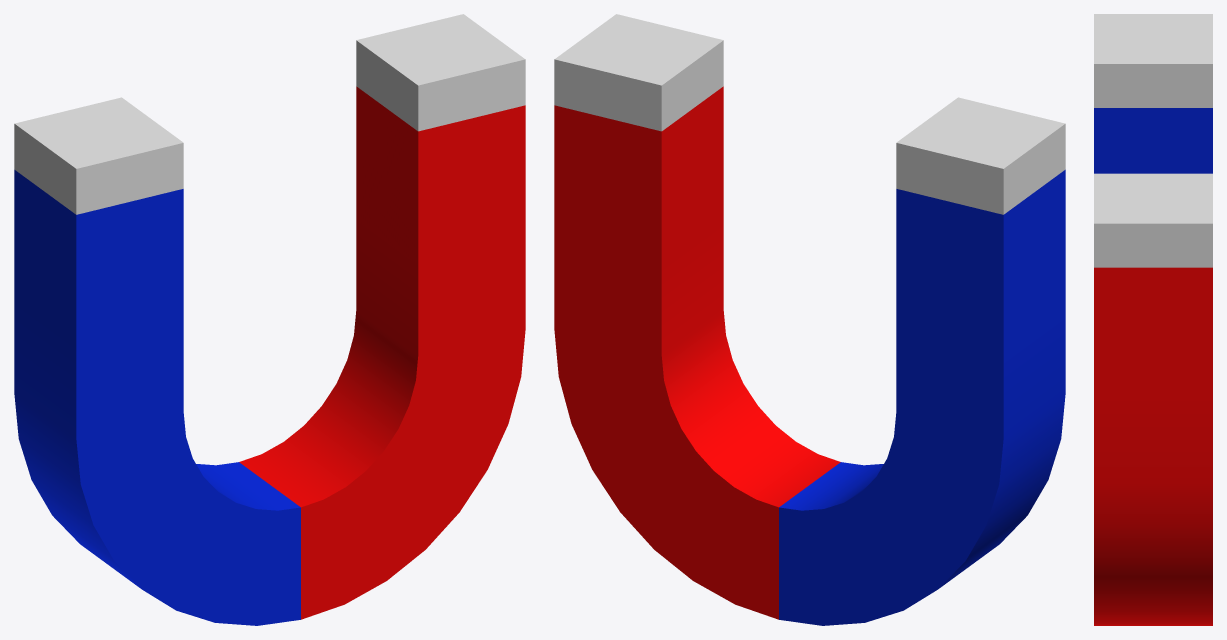
File: magnet.glb
3 views of the same model, side by side, from view 1: azimuth 30°, elevation 25°; view 2: azimuth 150°, elevation 25°; view 3: azimuth 270°, elevation 25° (orthographic). The views are drawn at different scales.
Visible parts, largest first — view 1: magnet; view 2: magnet; view 3: magnet.
Part boxes in pixels (bbox=[...]): magnet: bbox=[14, 14, 525, 625]; magnet: bbox=[554, 14, 1065, 625]; magnet: bbox=[1094, 14, 1212, 625].
Size of the model in its own units: 1.23 by 1.33 by 0.2948.
